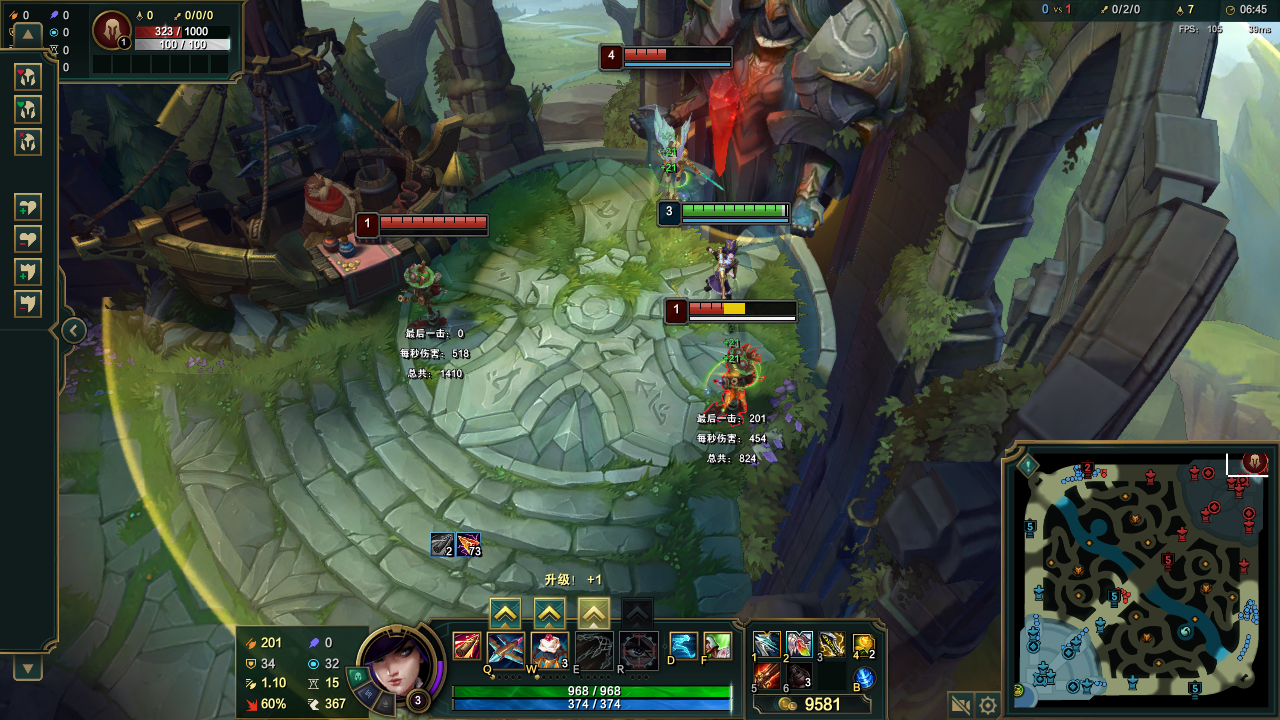DFYX: (684, 299, 807, 319), (383, 213, 488, 231), (626, 47, 730, 61)
